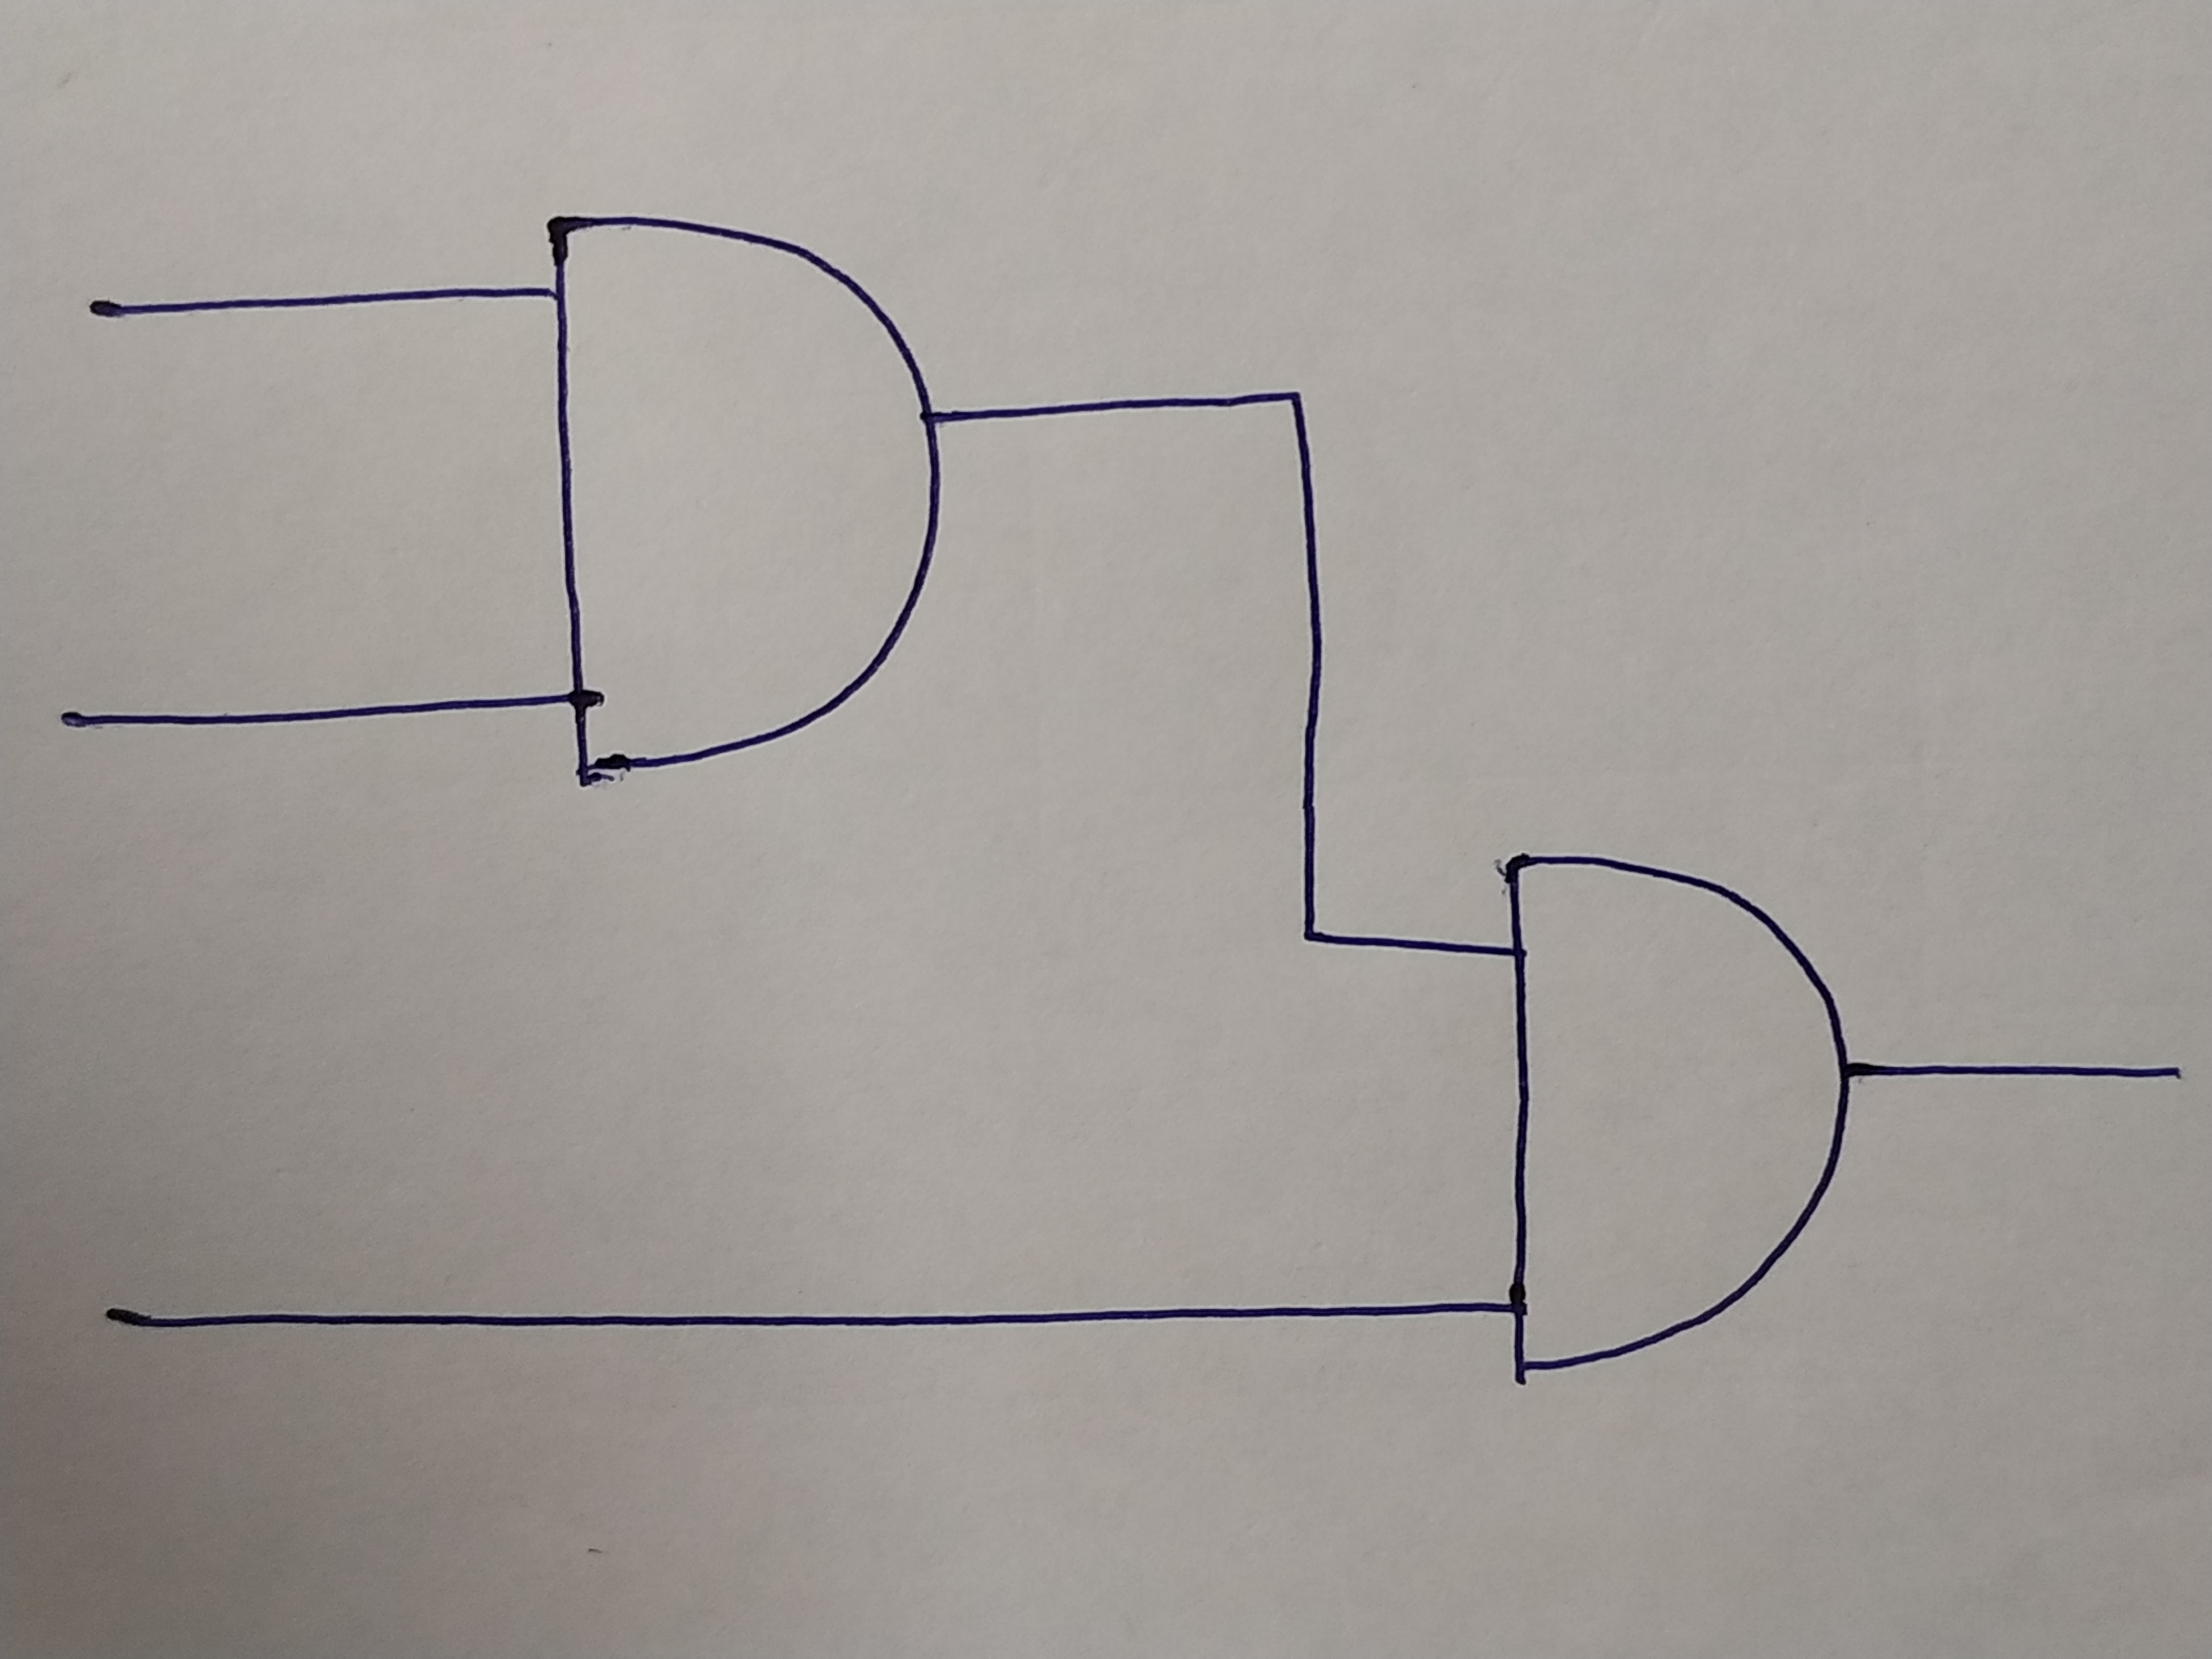and: (543, 211, 939, 772), (1500, 852, 1843, 1380)
